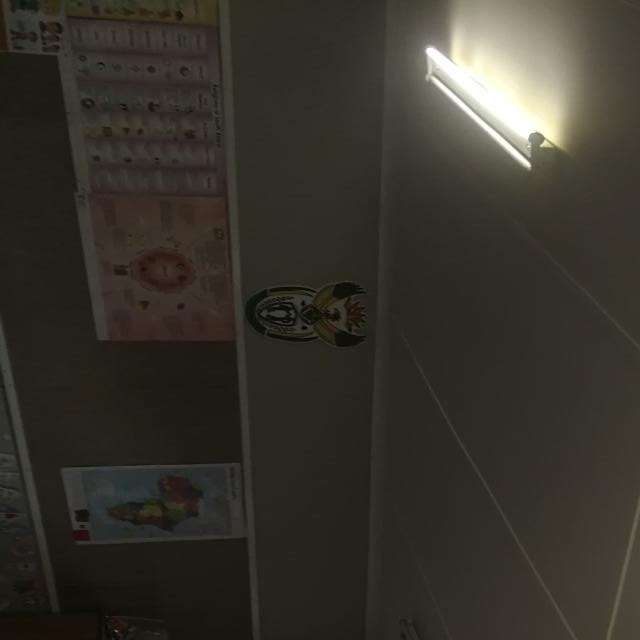fluorescent tube: (398, 29, 594, 174)
